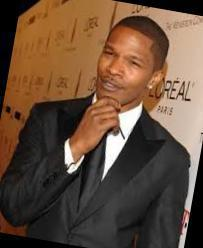Sober: (100, 30, 147, 102)
